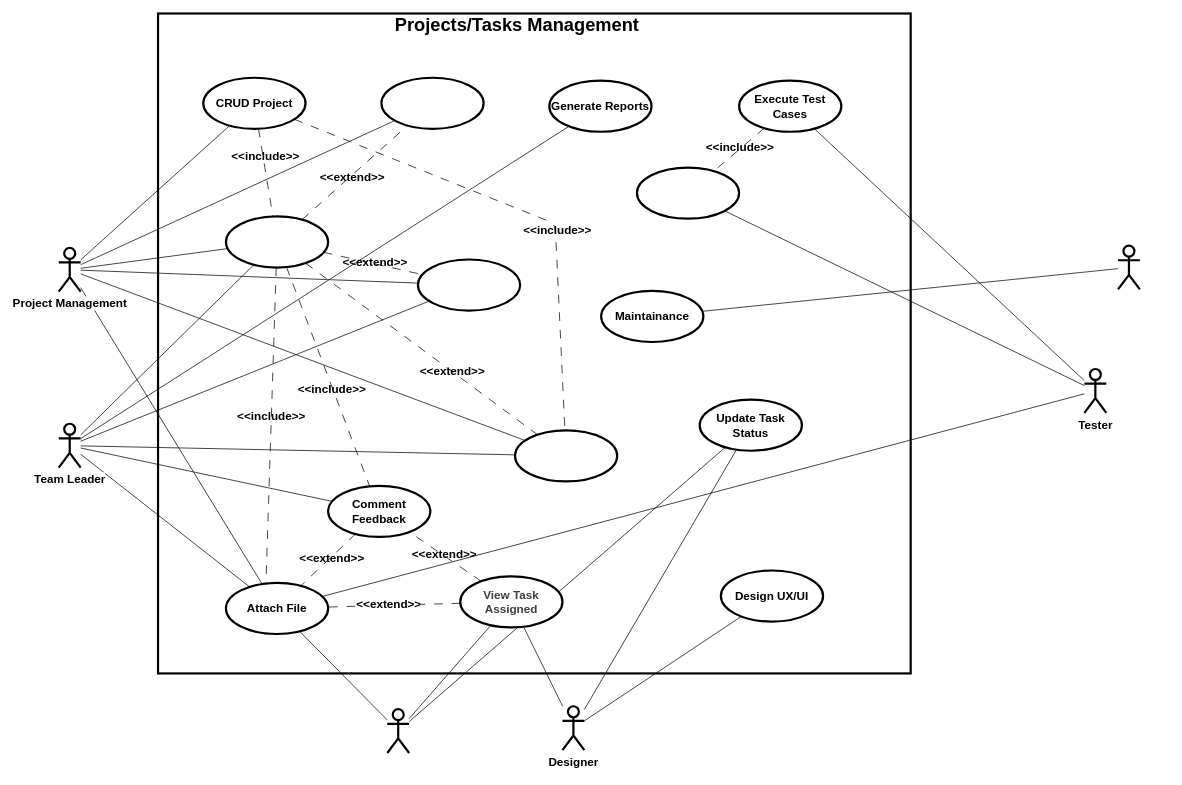
Some shapes in this 1182 by 785 pixel diagram are drawn without their labels. The shapes that lost their labels are listed below. From the top down, each one's box as (x1, y1, x2, y2) in pixels, then its label:
(380, 76, 484, 130): Approve Deliverables
(635, 166, 740, 219): Report Bug
(224, 215, 329, 268): CRUD Task
(416, 258, 521, 311): Track Progress
(1117, 244, 1141, 290): System Admin
(514, 429, 618, 482): Set Deadlines
(386, 708, 410, 754): Developer
